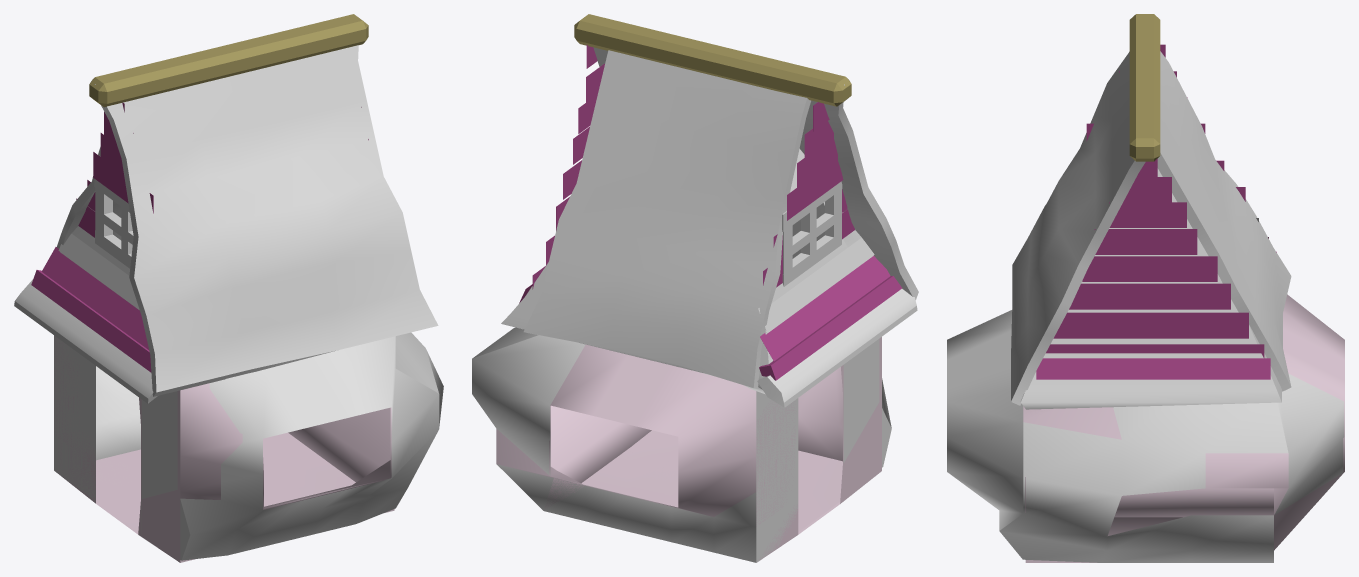
File: warpedhouse.fbx
The picture shows the model from 3 angles, left to right: view 1: azimuth 30°, elevation 25°; view 2: azimuth 150°, elevation 25°; view 3: azimuth 270°, elevation 25°; orthographic projection.
Parts seen in each view (by area): view 1: pCube60, pCube1, pCube94, pCube89, pCube83, pCube7, pCube59, pCube6, pCube58, pCube8, pCube79, pPyramid1 (+2 smaller); view 2: pCube58, pCube1, pCube94, pCube89, pCube60, pCube83, pCube7, pCube59, pCube6, pPyramid1, pCube8, pCube9 (+6 smaller); view 3: pCube1, pCube60, pCube58, pPyramid1, pCube94, pCube4, pCube40, pCube89, pCube42, pCube43, pCube44, pCube41 (+2 smaller).
Boxes of the visible parts, box(x1,y1,x2,y2) form: pCube60: box(94, 45, 438, 396); pCube1: box(54, 332, 443, 560); pCube94: box(54, 335, 438, 562); pCube89: box(89, 14, 368, 107); pCube83: box(14, 279, 157, 403); pCube7: box(42, 247, 148, 349); pCube59: box(31, 270, 151, 372); pCube6: box(58, 232, 139, 309); pCube58: box(57, 147, 121, 248); pCube8: box(93, 152, 153, 213); pCube79: box(95, 179, 112, 244); pPyramid1: box(60, 209, 138, 309); pCube58: box(523, 50, 810, 388); pCube1: box(472, 327, 891, 562); pCube94: box(544, 337, 881, 562); pCube89: box(574, 14, 851, 106); pCube60: box(593, 47, 918, 299); pCube83: box(757, 289, 917, 407); pCube7: box(760, 256, 890, 361); pCube59: box(759, 276, 901, 380); pCube6: box(758, 237, 874, 332); pPyramid1: box(501, 148, 873, 394); pCube8: box(787, 160, 843, 220); pCube9: box(797, 139, 837, 188); pCube1: box(947, 310, 1344, 562); pCube60: box(1011, 51, 1145, 405); pCube58: box(1157, 51, 1291, 391); pPyramid1: box(1020, 168, 1281, 409); pCube94: box(1025, 294, 1344, 562); pCube4: box(1036, 358, 1270, 379); pCube40: box(1053, 312, 1248, 338); pCube89: box(1129, 14, 1160, 161); pCube42: box(1069, 283, 1230, 309); pCube43: box(1082, 256, 1217, 281); pCube44: box(1094, 229, 1197, 254); pCube41: box(1046, 344, 1264, 357).
Size of the model in its own units: 37.06 by 46.48 by 38.19.
